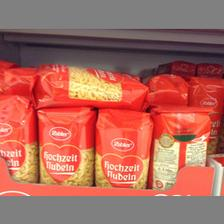Nudeln: (35, 61, 149, 106), (150, 105, 210, 189), (36, 106, 96, 184), (93, 107, 150, 187), (0, 94, 36, 182)
